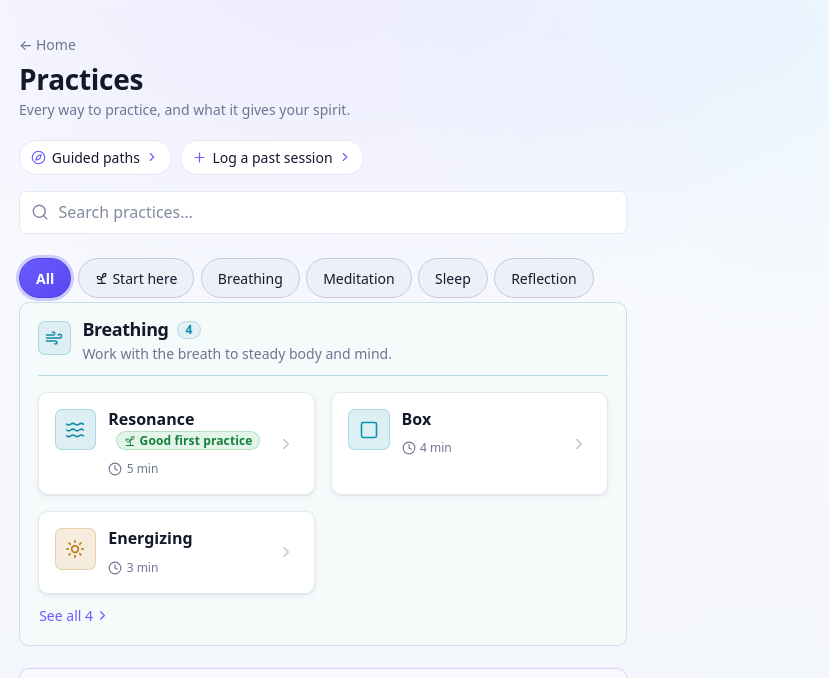
Test: PracticesPage — category chips + shelf previews › shows one full shelf when its category chip is picked, and All restores the overview
Click the button "Meditation" at (359,278), box [306,258,412,298]
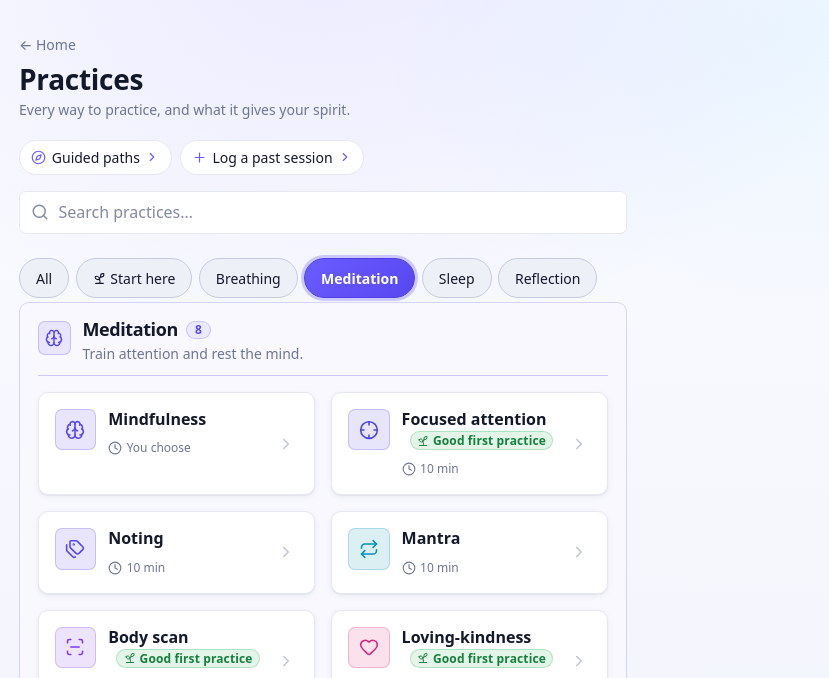
Click the button "All" at (44,278), box [19,258,69,298]
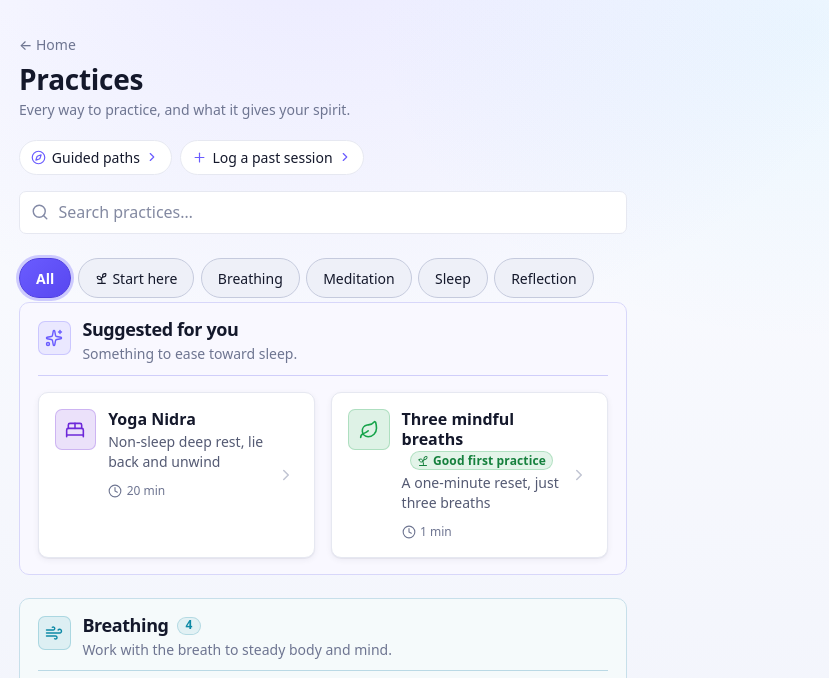
Expected: the heading "Breathing 4" is shown, [82,613,202,637]
